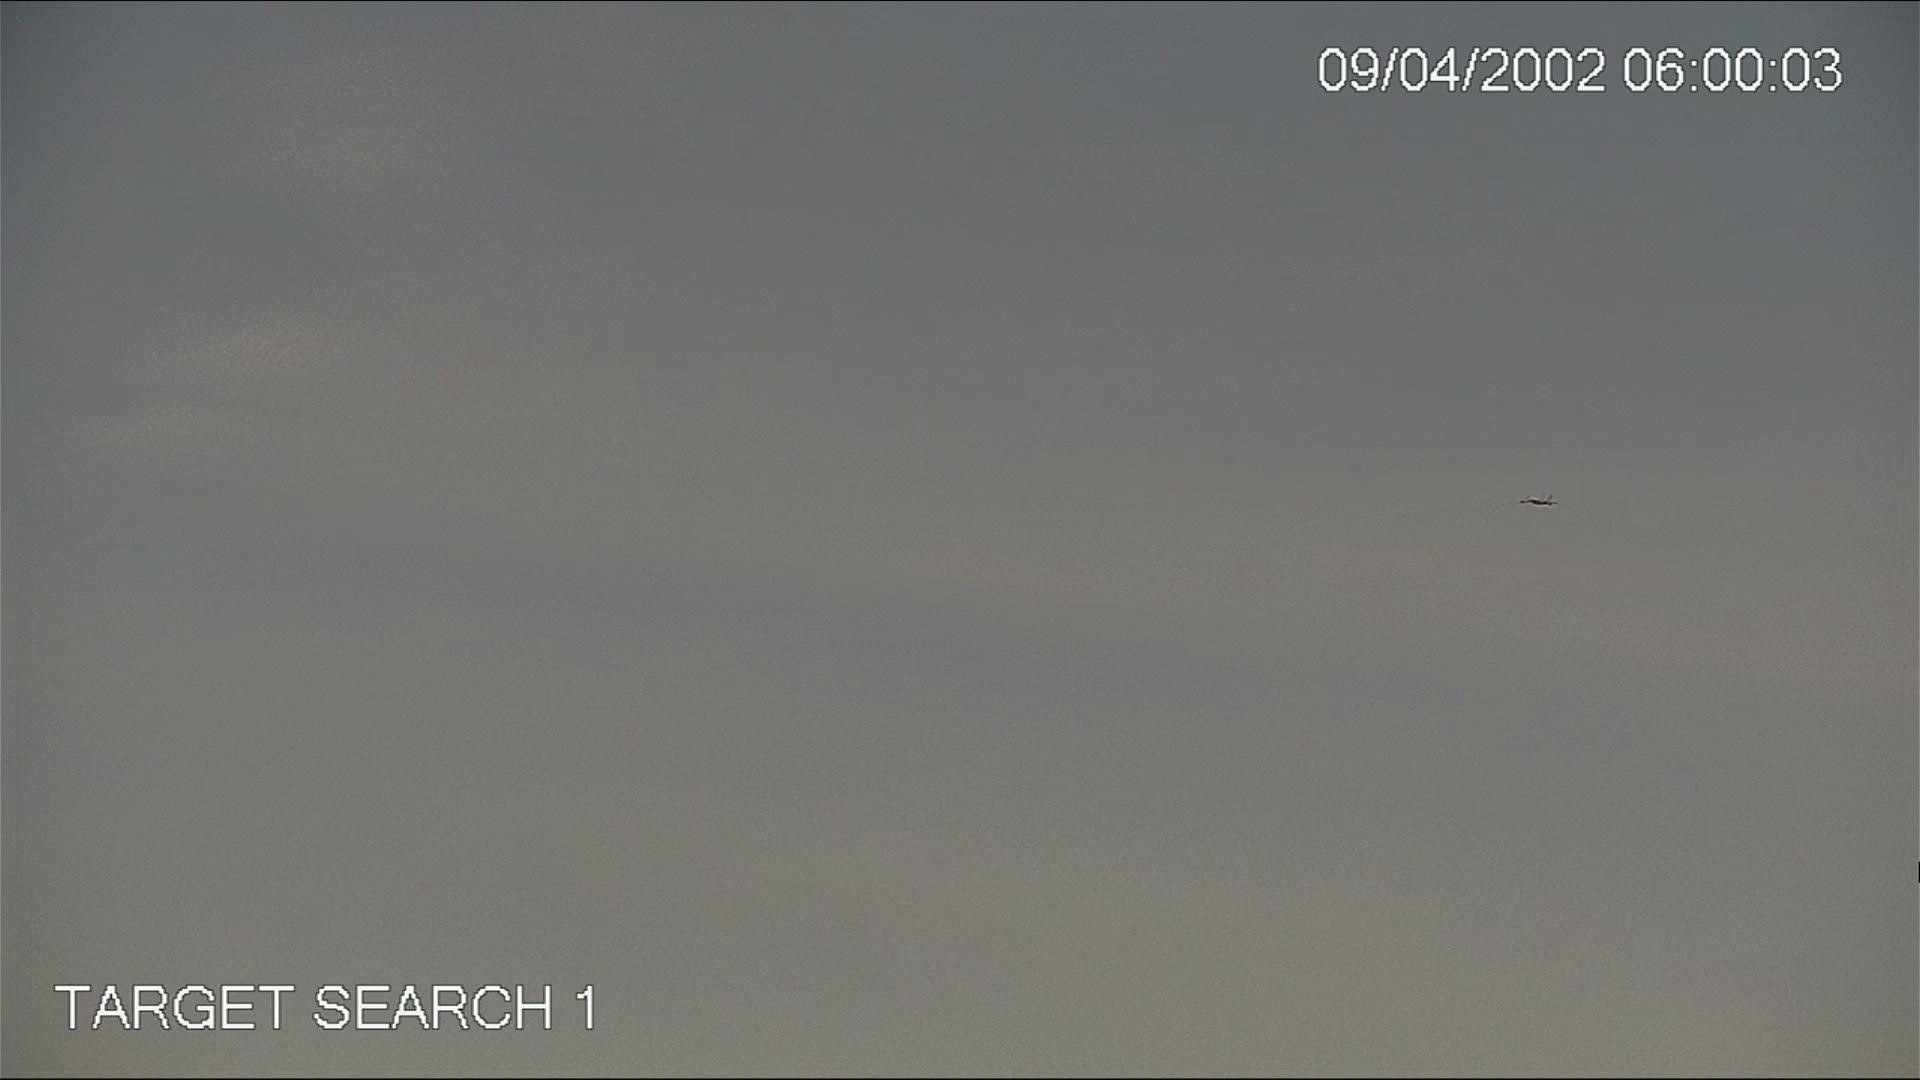SU_30: (1520, 492, 1557, 506)
